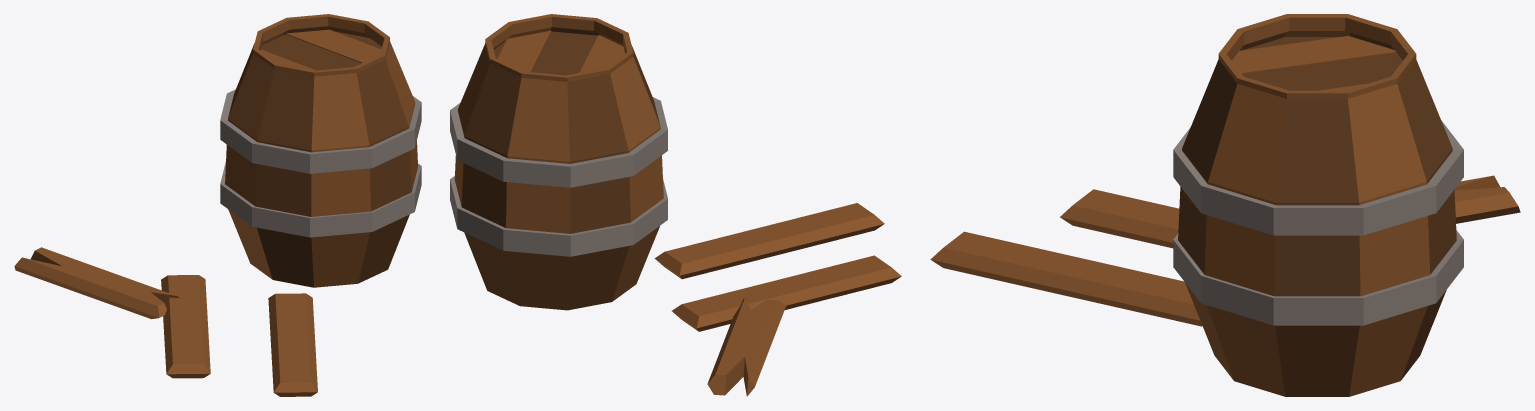
Rendered from decor3.fbx.
The picture shows the model from 3 angles, left to right: view 1: azimuth 30°, elevation 25°; view 2: azimuth 150°, elevation 25°; view 3: azimuth 270°, elevation 25°; orthographic projection. The views are drawn at different scales.
Visible parts, largest first — view 1: wooden box.002, wooden box.029, wooden box.027, wooden box.028; view 2: wooden box.002, wooden box.027, wooden box.028, wooden box.029; view 3: wooden box.002, wooden box.027, wooden box.028, wooden box.029.
Boxes of the visible parts, x1,y1,x2,y2 form: wooden box.002: (220,14,421,287); wooden box.029: (14,247,179,319); wooden box.027: (268,293,317,396); wooden box.028: (161,275,210,378); wooden box.002: (450,14,667,310); wooden box.027: (655,203,884,279); wooden box.028: (672,255,901,331); wooden box.029: (707,298,785,396); wooden box.002: (1173,14,1463,396); wooden box.027: (930,231,1202,326); wooden box.028: (1060,189,1179,248); wooden box.029: (1454,175,1520,223).
Size of the model in its own units: 518 by 334 by 571.
